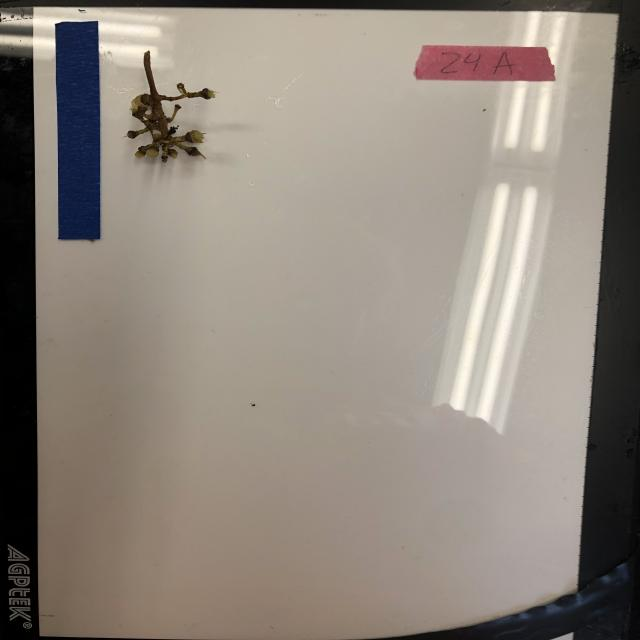index: (412, 42, 560, 83)
measure_label: (52, 19, 105, 242)
rachis_cluster: (126, 49, 220, 169)
